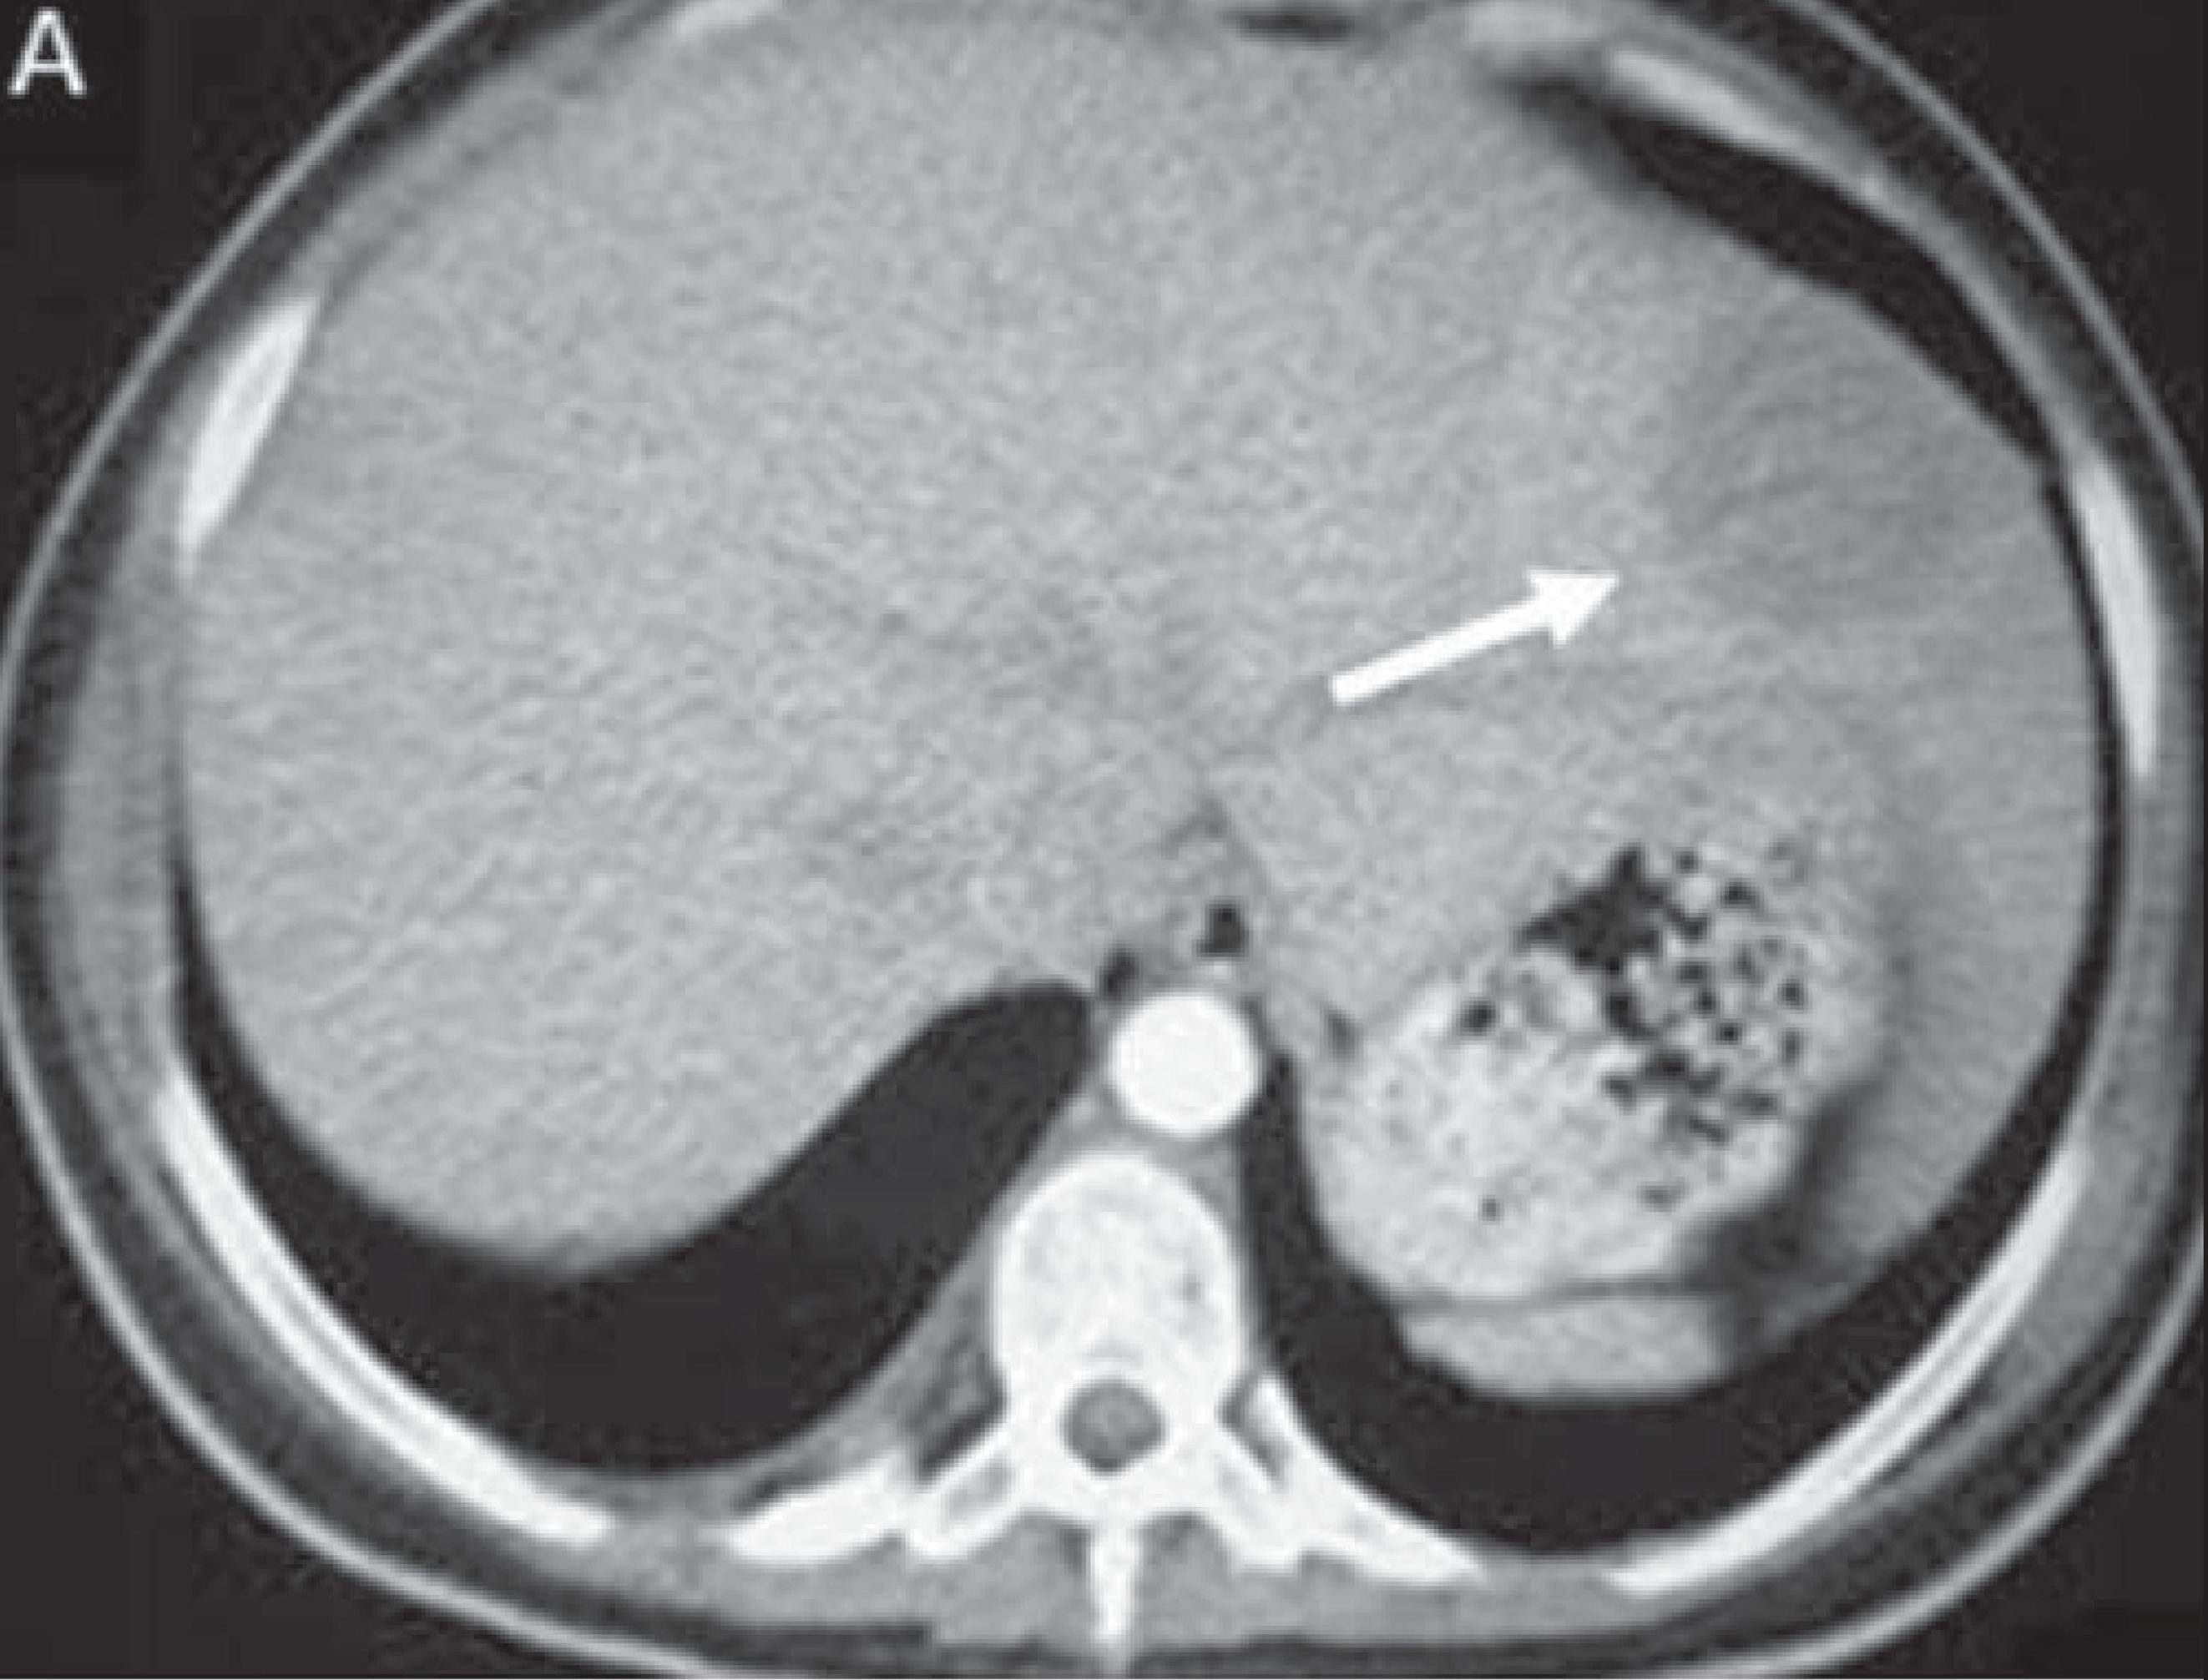anomaly: (1590, 309, 2072, 667)
